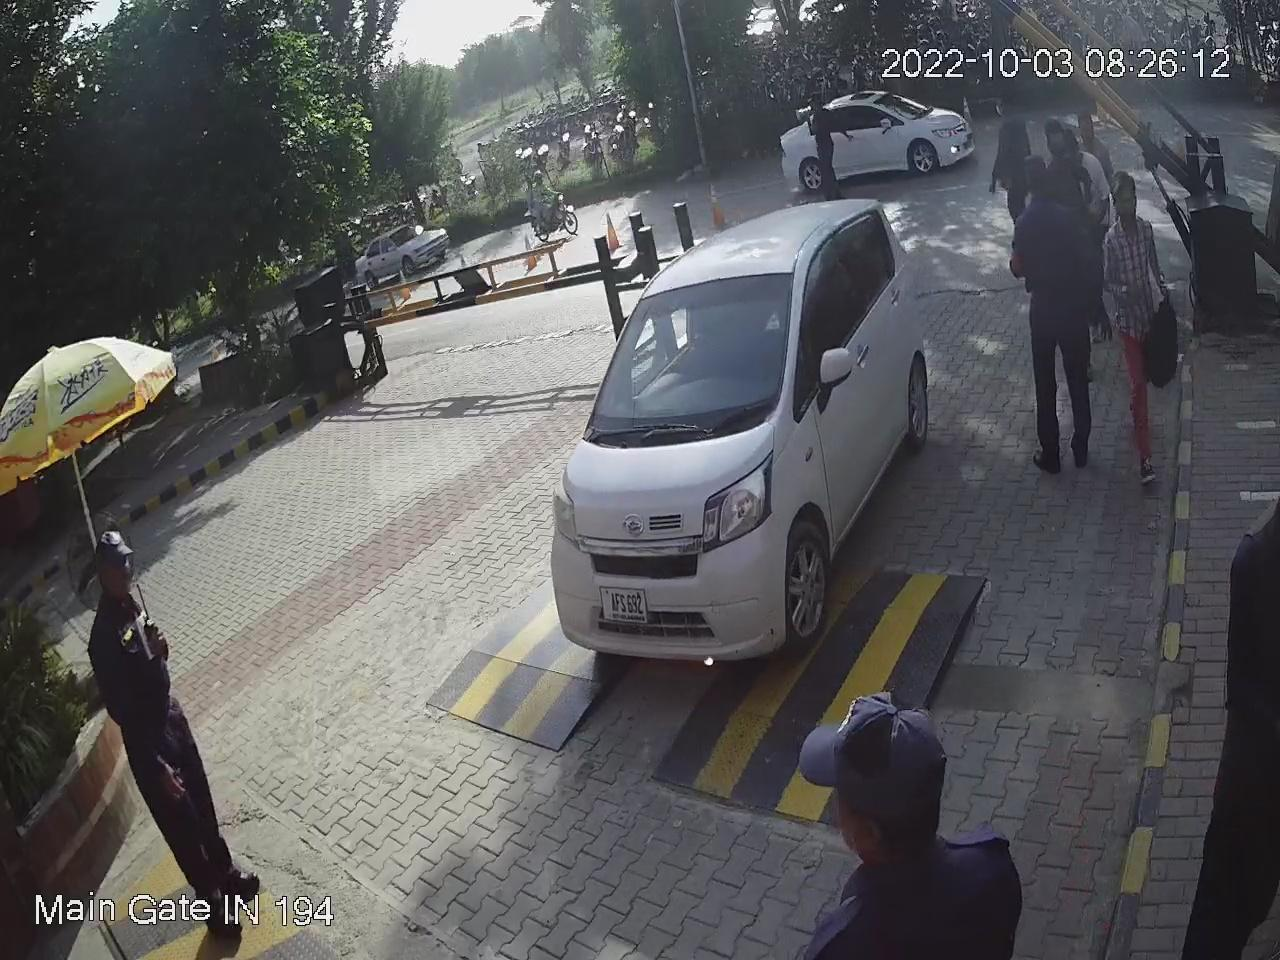windshield: (581, 275, 805, 423)
